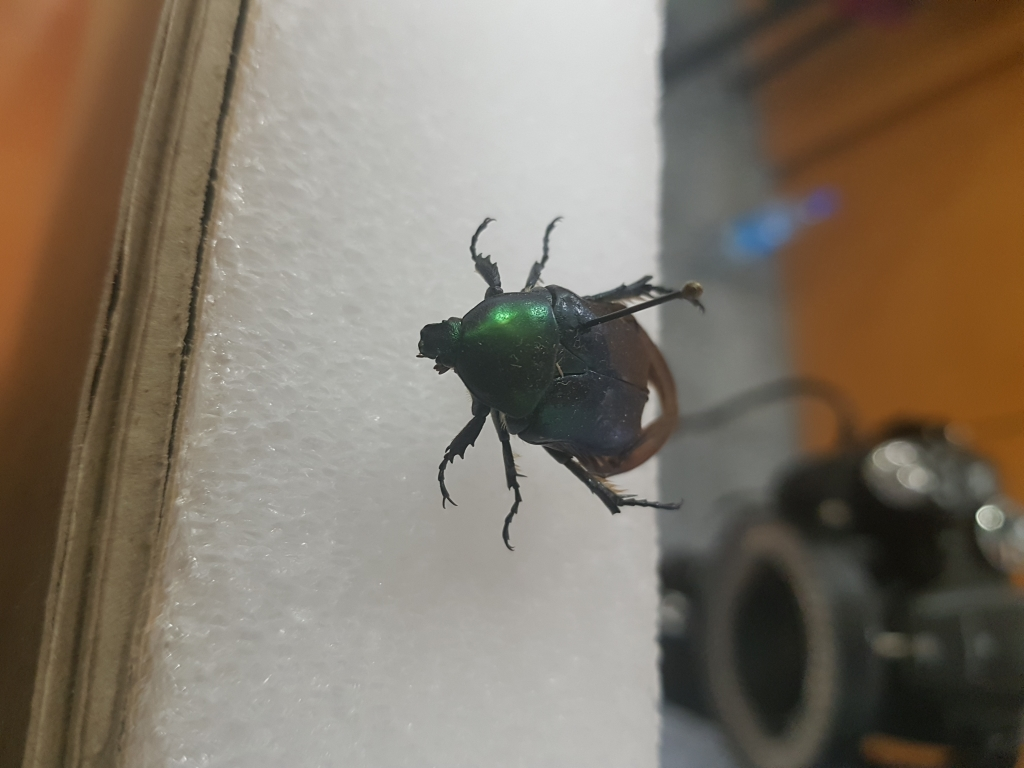Protaetia_angustata_angustata: (408, 212, 699, 557)
